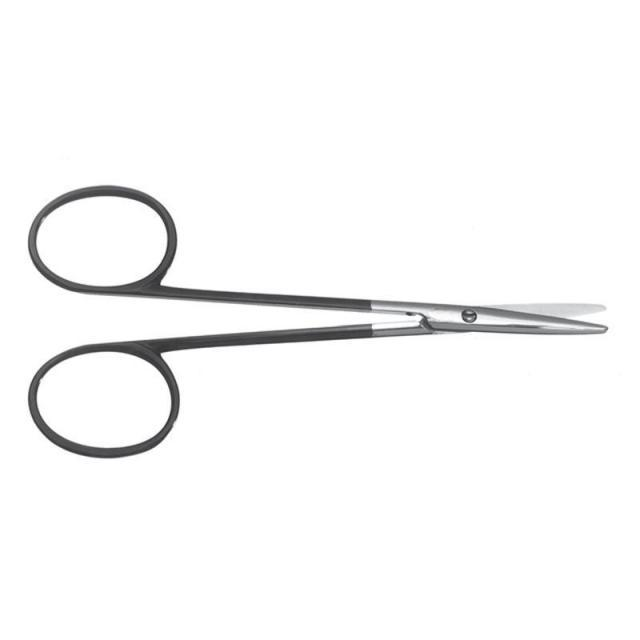Iris: (24, 182, 611, 462)
